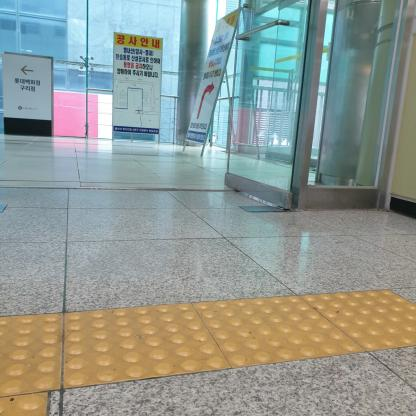stop: (62, 304, 231, 388), (192, 294, 368, 368), (300, 288, 415, 352)
